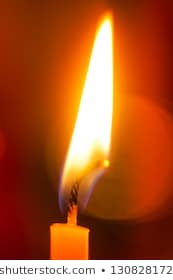Fire: (53, 5, 116, 219)
